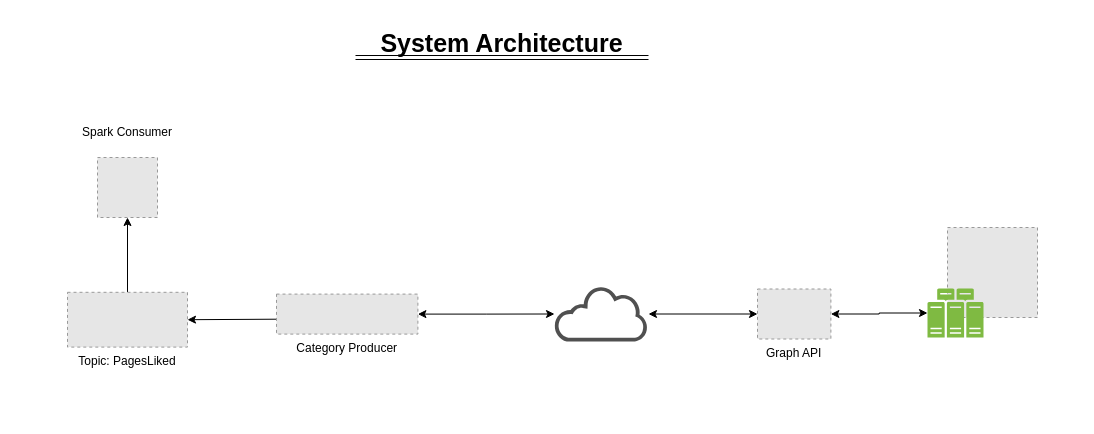
Some shapes in this 1094 by 434 pixel diagram are drawn without their labels. Grey dashed boxes stand in for pictures. Here are the shapes that lost their labels. From the top down, the box of each, then its label:
(554, 286, 648, 341): Internet
(927, 288, 983, 337): Facebook Servers
